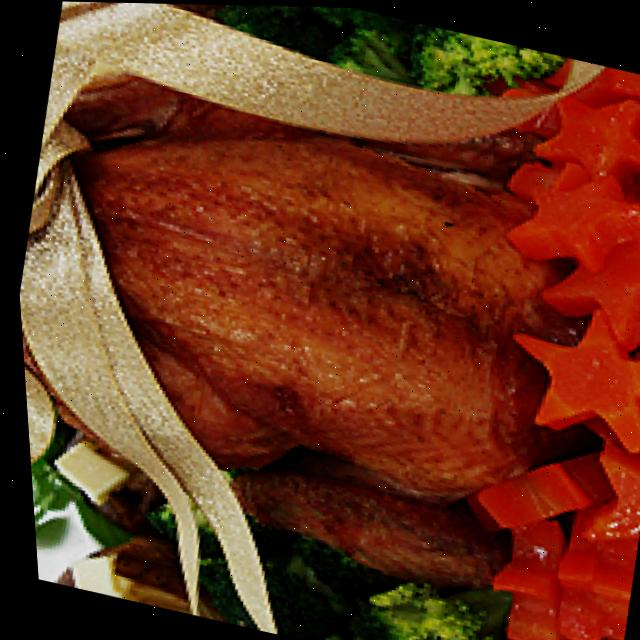鸡肉料理 含炸鸡: (1, 15, 608, 601)
